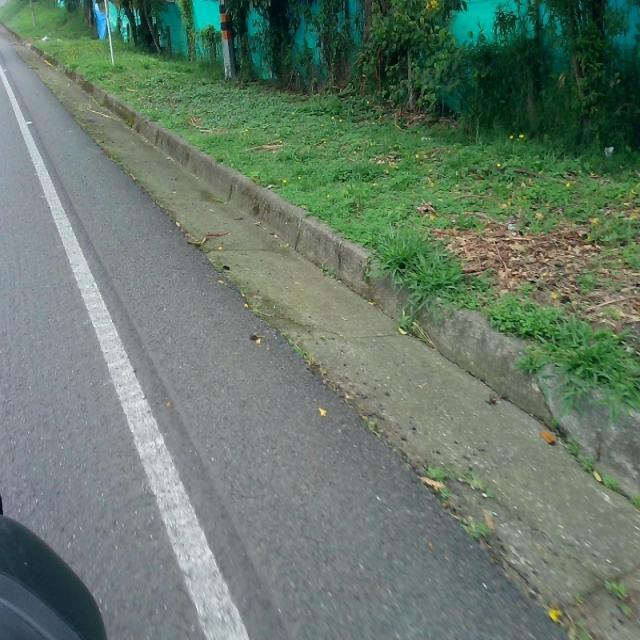DITCH: (2, 20, 636, 638), (2, 55, 637, 638)
